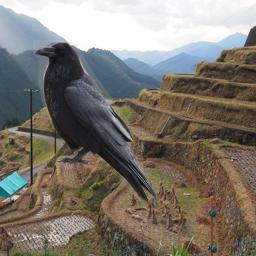Crow: (33, 40, 159, 205)
